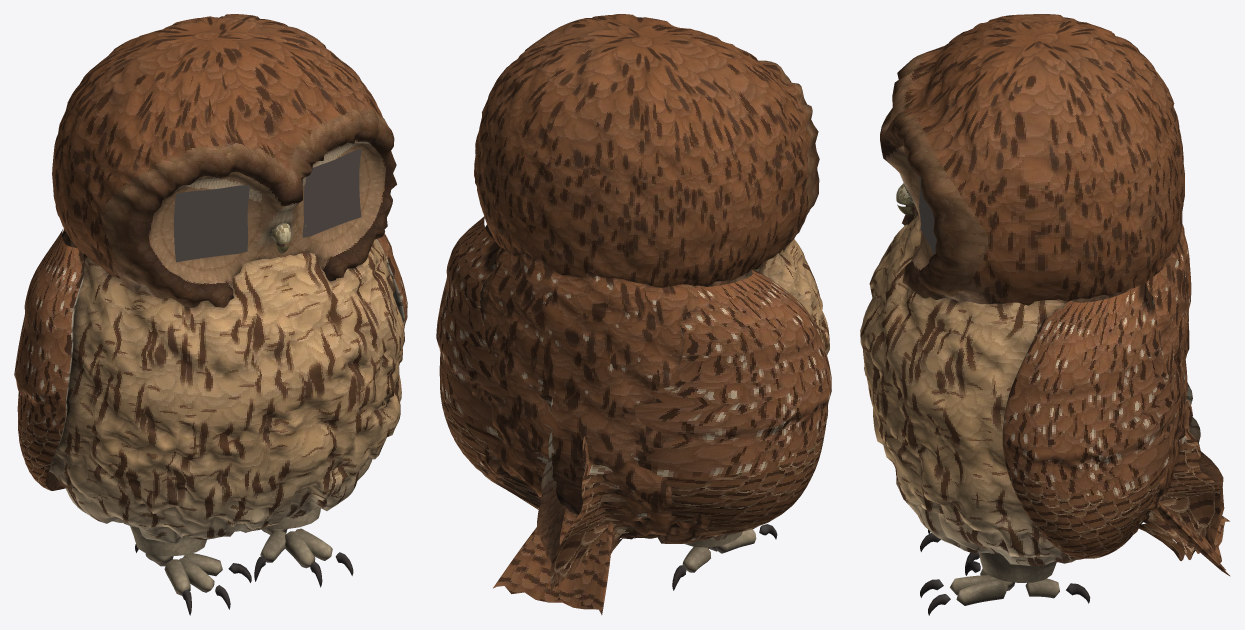
The model's file is tawny.glb.
The picture shows the model from 3 angles, left to right: view 1: azimuth 30°, elevation 25°; view 2: azimuth 150°, elevation 25°; view 3: azimuth 270°, elevation 25°; orthographic projection. The views are drawn at different scales.
Visible parts, largest first — view 1: body_mesh, head_mesh, wing_l_mesh, eye_l, eye_r, leg_l_mesh, wing_r_mesh, leg_rt1_mesh, leg_lt0_mesh, leg_lt1_mesh, leg_rt2_mesh, leg_rt0_mesh; view 2: head_mesh, body_mesh, wing_l_mesh, wing_r_mesh, tail_mesh; view 3: head_mesh, body_mesh, wing_r_mesh, leg_r_mesh, tail_mesh, wing_l_mesh, leg_rt0_mesh, eye_r, leg_rt3_mesh.
Boxes of the visible parts, x1,y1,x2,y2 form: body_mesh: (49,229,404,543); head_mesh: (52,14,396,307); wing_l_mesh: (14,228,84,490); eye_l: (174,185,249,262); eye_r: (302,148,361,237); leg_l_mesh: (130,526,206,556); wing_r_mesh: (376,233,407,365); leg_rt1_mesh: (285,531,315,568); leg_lt0_mesh: (164,559,190,595); leg_lt1_mesh: (179,557,214,592); leg_rt2_mesh: (260,530,285,562); leg_rt0_mesh: (295,528,332,560); head_mesh: (474,14,819,287); body_mesh: (472,225,829,543); wing_l_mesh: (550,270,831,592); wing_r_mesh: (436,216,565,586); tail_mesh: (493,507,613,615); head_mesh: (880,14,1184,305); body_mesh: (860,214,1191,566); wing_r_mesh: (1002,282,1221,561); leg_r_mesh: (979,553,1056,582); tail_mesh: (1158,501,1230,576); wing_l_mesh: (1186,382,1224,548); leg_rt0_mesh: (956,578,1008,605); eye_r: (919,176,936,254); leg_rt3_mesh: (1025,578,1059,598).
Bounding box in the file's own units: 30.71 × 40.84 × 25.68.
2 materials, 1 textured.
